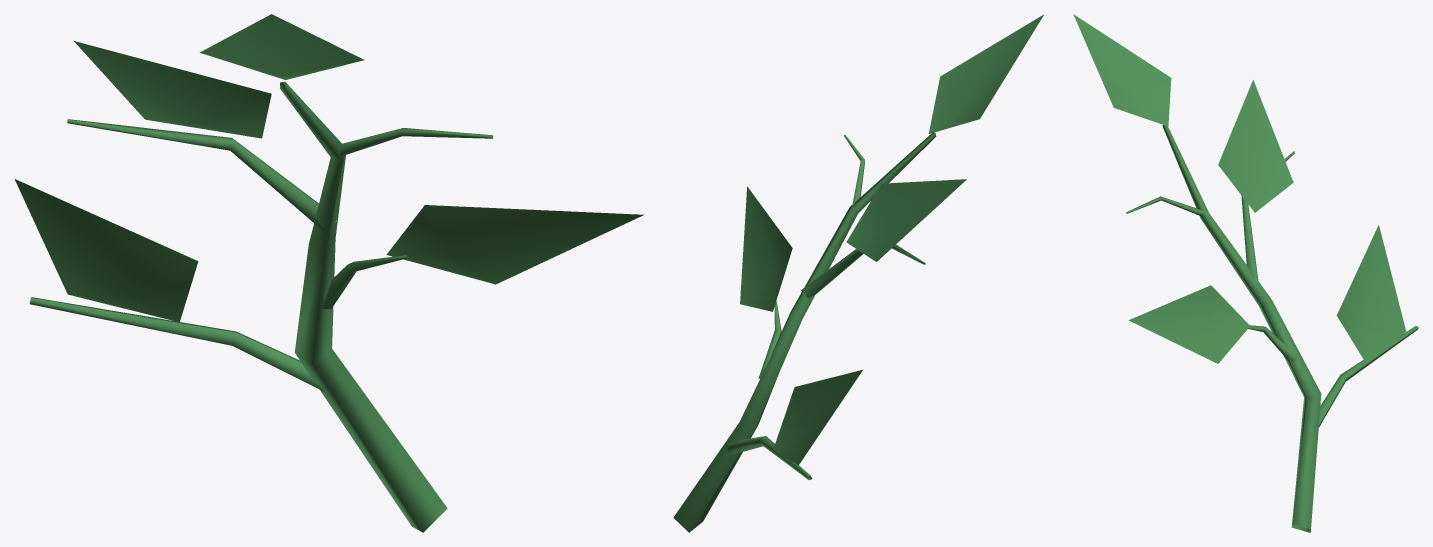
Rendered from plant1.fbx.
The picture shows the model from 3 angles, left to right: view 1: azimuth 30°, elevation 25°; view 2: azimuth 150°, elevation 25°; view 3: azimuth 270°, elevation 25°; orthographic projection. The views are drawn at different scales.
Parts seen in each view (by area): view 1: plant1; view 2: plant1; view 3: plant1.
Part boxes in pixels (x1=…): plant1: x1=14, y1=14, x2=644, y2=532; plant1: x1=673, y1=14, x2=1044, y2=532; plant1: x1=1073, y1=14, x2=1418, y2=532.
Bounding box in the file's own units: 1.61 × 2.51 × 1.86.
